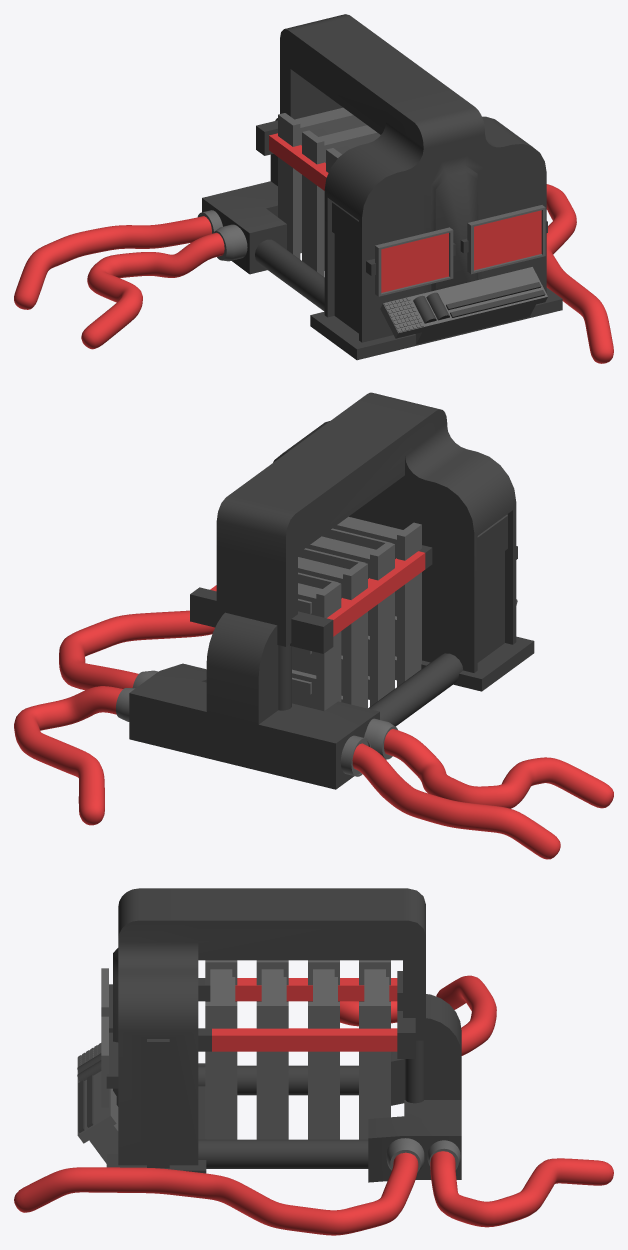
Rendered from CodeInjectionModel 1.fbx.
3 renders of one model, top to bottom at view 1: azimuth 30°, elevation 25°; view 2: azimuth 150°, elevation 25°; view 3: azimuth 270°, elevation 25°, orthographic. The views are drawn at different scales.
Parts seen in each view (by area): view 1: Cube; view 2: Cube; view 3: Cube.
Part boxes in pixels (left/top/right/bottom): Cube: left=14, top=14, right=613, bottom=363; Cube: left=14, top=392, right=613, bottom=859; Cube: left=14, top=888, right=613, bottom=1235.
Bounding box in the file's own units: 1342 × 610 × 1317.
